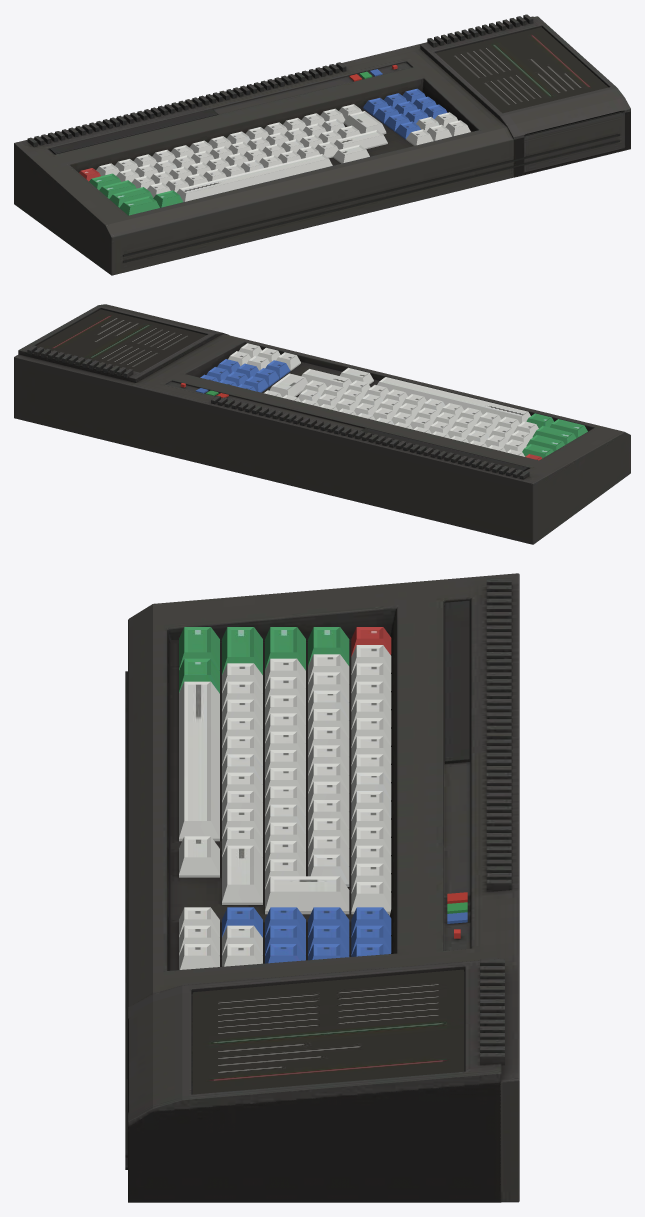
The model's file is amstradcpc.glb.
3 renders of one model, top to bottom at view 1: azimuth 30°, elevation 25°; view 2: azimuth 150°, elevation 25°; view 3: azimuth 270°, elevation 25°, orthographic. The views are drawn at different scales.
Parts seen in each view (by area): view 1: body, cpc-keys-red, panel-decal; view 2: body, cpc-keys-red, panel-decal; view 3: body, cpc-keys-red, panel-decal.
Boxes of the visible parts, x1,y1,x2,y2 form: body: [14, 14, 630, 275]; cpc-keys-red: [79, 88, 470, 215]; panel-decal: [436, 27, 608, 113]; body: [14, 304, 630, 544]; cpc-keys-red: [200, 343, 587, 460]; panel-decal: [36, 309, 206, 372]; body: [125, 573, 519, 1202]; cpc-keys-red: [179, 627, 391, 969]; panel-decal: [192, 969, 463, 1094].
Bounding box in the file's own units: 0.53 × 0.0666 × 0.1741.
Materials: 7 (3 with a texture image).
